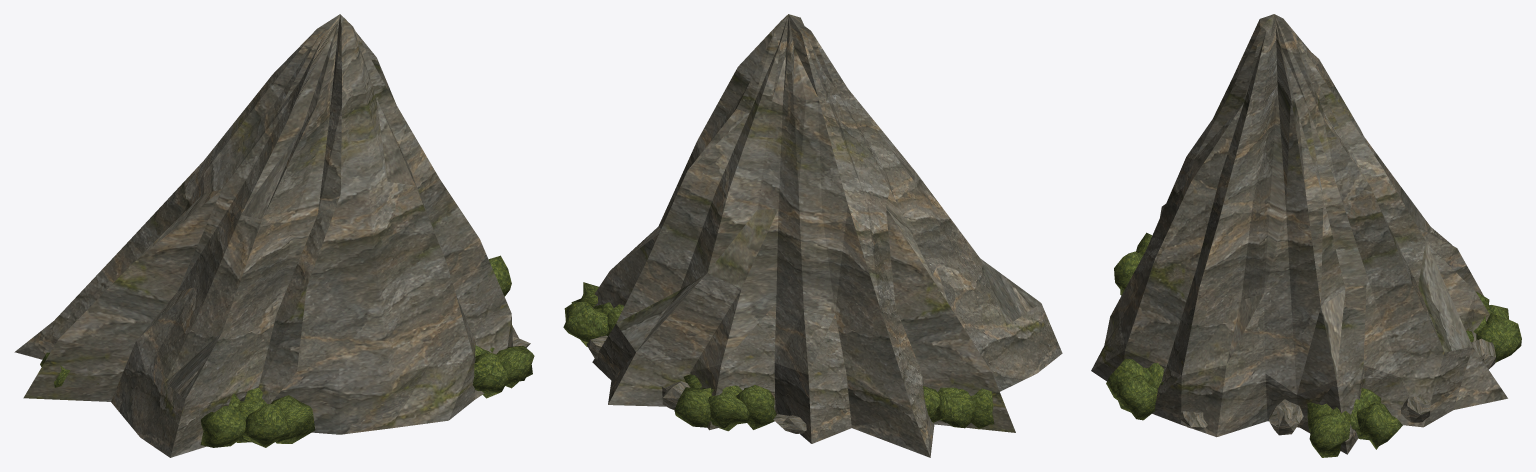
File: mountain_peak_a.gltf
The picture shows the model from 3 angles, left to right: view 1: azimuth 30°, elevation 25°; view 2: azimuth 150°, elevation 25°; view 3: azimuth 270°, elevation 25°; orthographic projection. The views are drawn at different scales.
Parts seen in each view (by area): view 1: mountain_peak_a_game; view 2: mountain_peak_a_game; view 3: mountain_peak_a_game.
Part boxes in pixels (x1,y1,x2,y2): mountain_peak_a_game: [14, 14, 534, 457]; mountain_peak_a_game: [563, 14, 1062, 457]; mountain_peak_a_game: [1091, 14, 1521, 457].
Size of the model in its own units: 1.7 by 1.21 by 1.32.
2 materials, 2 textured.
